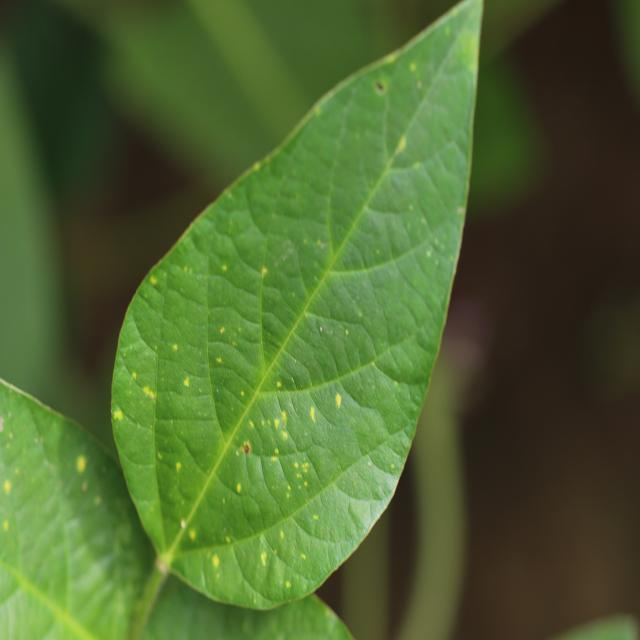Soybean: (109, 0, 483, 640)
downey_mildew: (200, 121, 431, 420), (144, 332, 409, 574), (2, 380, 148, 636), (349, 21, 476, 264), (126, 250, 229, 536), (2, 0, 128, 220), (2, 54, 67, 405), (138, 146, 292, 293), (157, 0, 308, 148), (158, 398, 261, 563), (321, 69, 407, 257), (280, 372, 399, 491), (205, 236, 273, 432), (77, 116, 196, 226), (406, 236, 471, 436), (243, 157, 331, 291), (468, 59, 545, 207), (170, 488, 330, 554), (258, 234, 325, 379), (230, 394, 322, 497), (4, 466, 69, 608), (297, 272, 387, 372), (62, 521, 139, 633), (0, 369, 105, 450), (395, 0, 482, 87), (267, 246, 326, 362), (202, 200, 270, 294), (324, 443, 401, 524), (0, 392, 53, 508), (240, 587, 358, 639), (138, 578, 229, 640), (272, 320, 347, 395), (231, 527, 307, 598), (112, 319, 158, 436), (117, 433, 164, 545), (248, 365, 385, 402), (346, 369, 413, 443), (339, 203, 409, 273), (166, 401, 227, 481), (235, 446, 287, 531), (368, 323, 434, 389), (1, 578, 70, 640), (150, 268, 166, 531), (207, 306, 265, 373), (155, 254, 213, 317), (130, 282, 171, 360), (204, 273, 260, 328), (0, 492, 23, 586), (53, 519, 70, 627), (116, 425, 156, 465), (155, 399, 217, 423), (258, 299, 267, 389), (347, 498, 372, 530), (387, 132, 407, 165), (430, 231, 452, 259), (233, 481, 243, 495), (414, 161, 422, 169)
